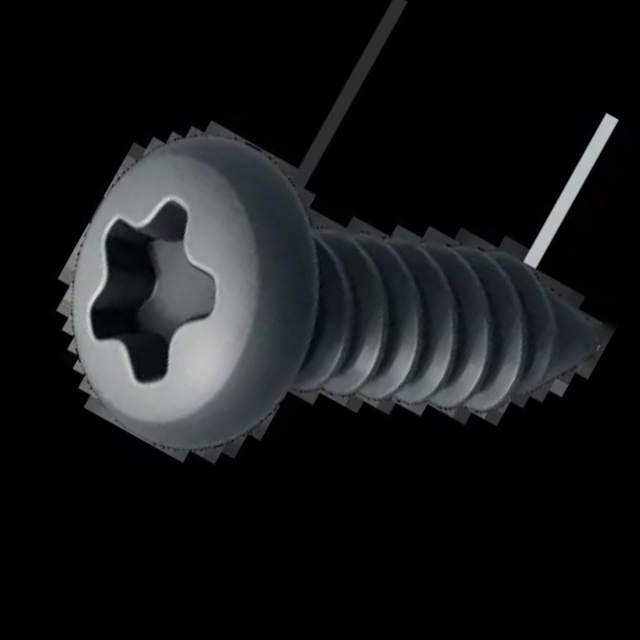torx: (5, 89, 386, 493)
